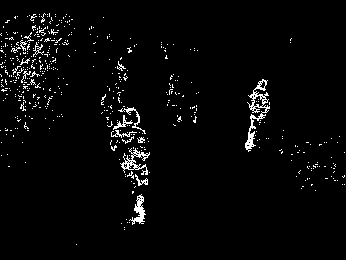person: (112, 106, 160, 232), (247, 77, 267, 162)
